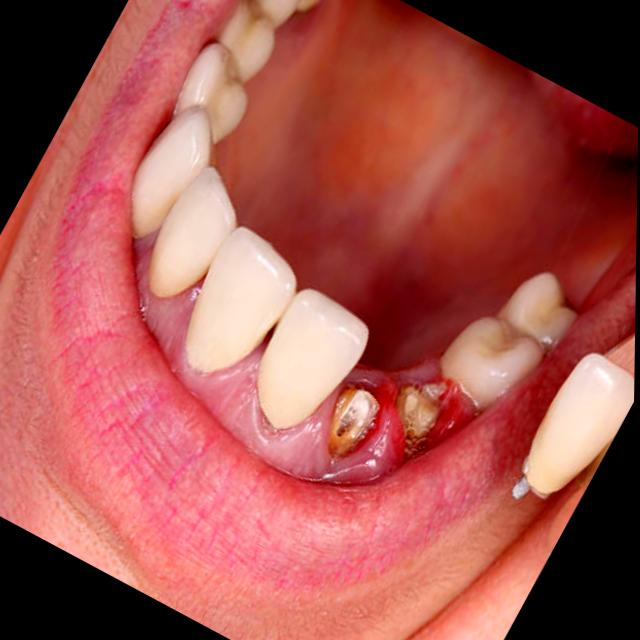gingivitis: (135, 233, 342, 479)
